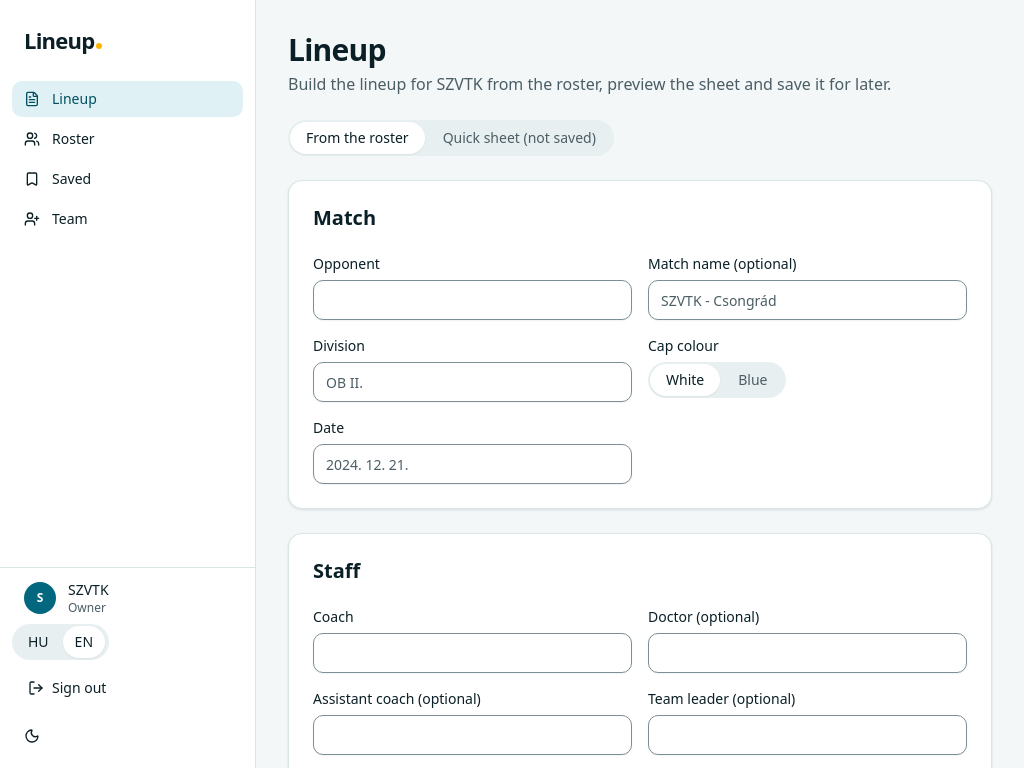
Test: roster page › is reachable from the navigation
Click the link "Roster" at {"x": 59, "y": 138}, box [24,129,95,148]
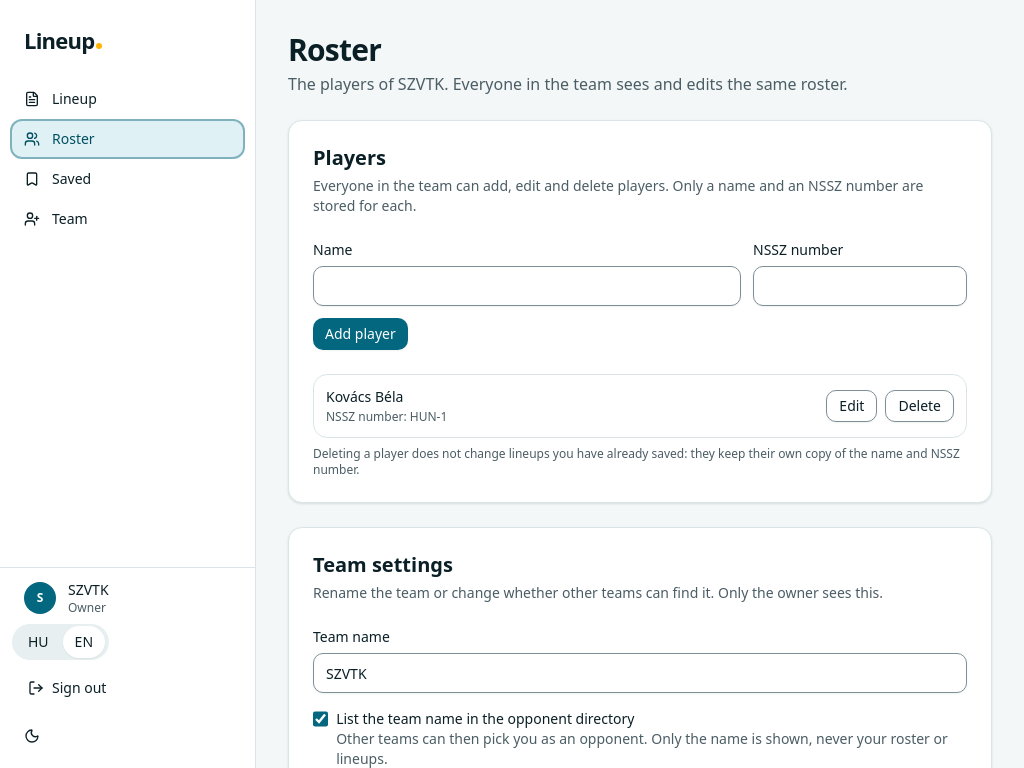
Expected: the heading "Roster" is shown, [288,29,381,70]
